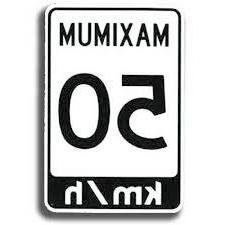speed limit sign: (44, 7, 186, 214)
